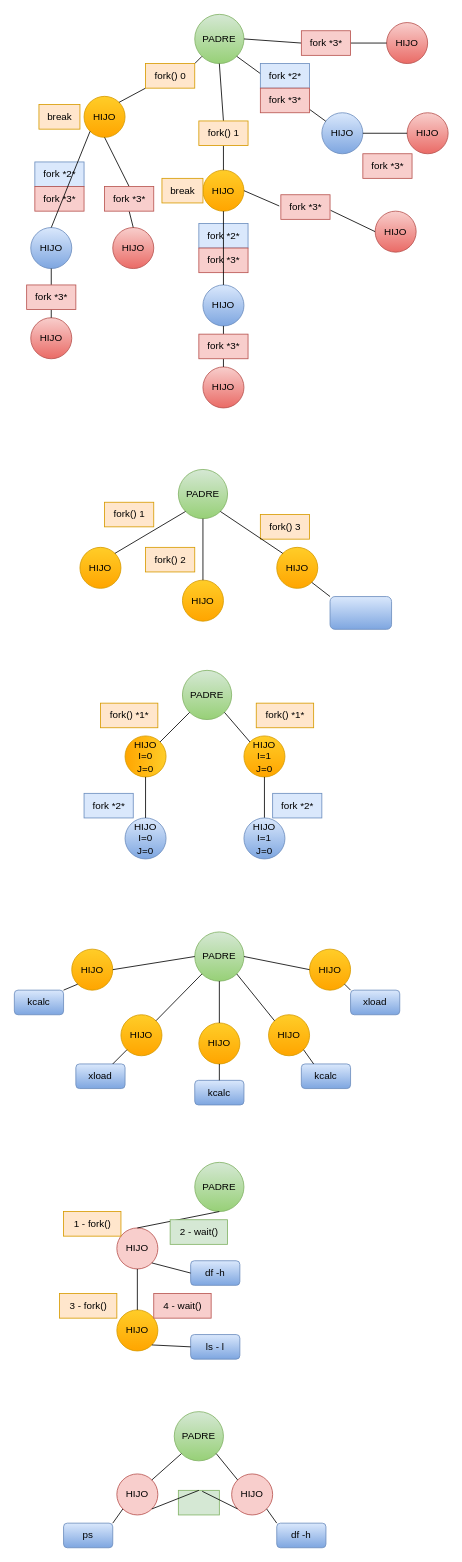
Image size: 462x1562. Some labels were removed from this diagram. Each missing label, with the box of its shape:
execlp: (329, 596, 392, 629)
wait(): (178, 1490, 219, 1515)
